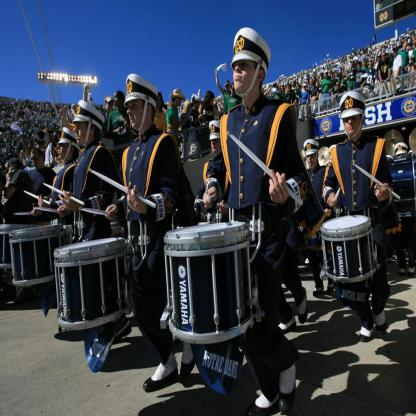face: (233, 53, 256, 89), (128, 97, 147, 128), (343, 110, 361, 135), (74, 121, 90, 146), (58, 140, 70, 160), (307, 152, 317, 166), (31, 151, 39, 168), (53, 142, 61, 158), (211, 138, 220, 152), (8, 165, 16, 180), (34, 155, 42, 169), (397, 153, 406, 164), (107, 100, 114, 114), (114, 93, 121, 107), (210, 126, 216, 134), (382, 53, 387, 62), (5, 160, 10, 168), (405, 40, 409, 49), (159, 97, 162, 108), (206, 94, 210, 102), (232, 84, 236, 92), (164, 107, 168, 115), (179, 97, 182, 107), (190, 103, 193, 111), (197, 102, 200, 110), (226, 83, 230, 89), (370, 62, 373, 70), (411, 56, 414, 63), (303, 86, 307, 91), (364, 61, 367, 67), (395, 50, 398, 56), (413, 39, 416, 45), (193, 101, 196, 106), (214, 99, 217, 104), (288, 87, 291, 92), (311, 80, 314, 85), (326, 73, 329, 78), (337, 83, 340, 88), (412, 76, 415, 81), (408, 79, 411, 84), (214, 107, 217, 112), (336, 72, 339, 77), (270, 86, 273, 90), (262, 88, 265, 92), (340, 75, 343, 79), (407, 46, 410, 50), (293, 83, 296, 87), (3, 150, 5, 155), (47, 141, 49, 146), (282, 87, 284, 92), (307, 80, 309, 85), (346, 71, 348, 76), (358, 64, 360, 69), (378, 57, 380, 62), (279, 90, 281, 94), (313, 77, 315, 81), (322, 74, 324, 78), (343, 72, 345, 76), (391, 55, 393, 59), (314, 84, 316, 88), (24, 160, 26, 163), (321, 75, 323, 78), (21, 154, 22, 158), (285, 87, 286, 91)
